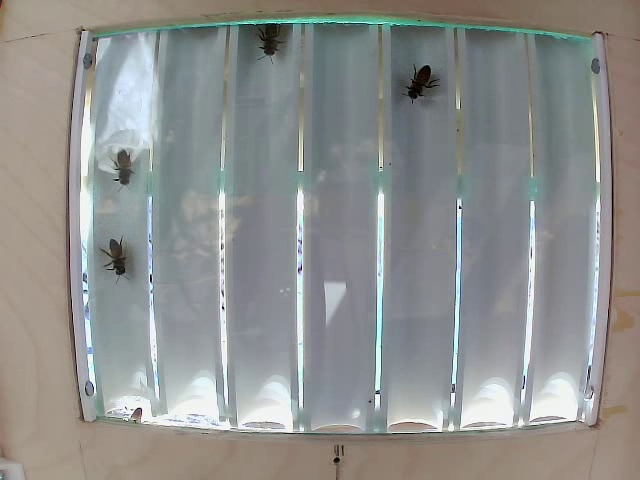bee: (97, 235, 147, 289), (403, 50, 445, 114), (250, 16, 291, 77), (103, 149, 148, 196)
